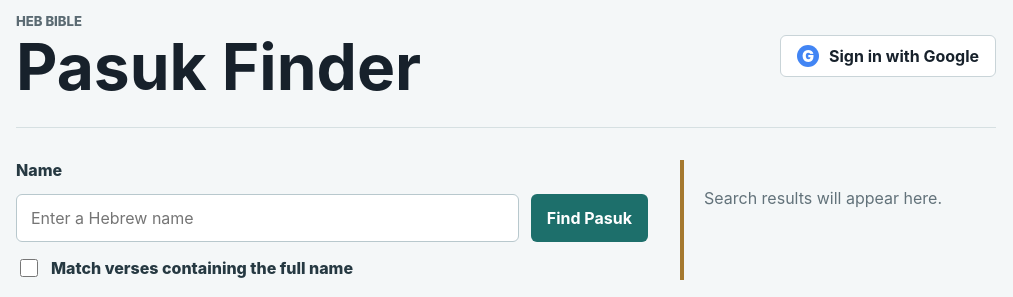
Test: App › shows a search error when the backend request fails
The image size is (1013, 297).
Type "דוד" into the field with id "name" at (267, 218), box [16,194,519,242]
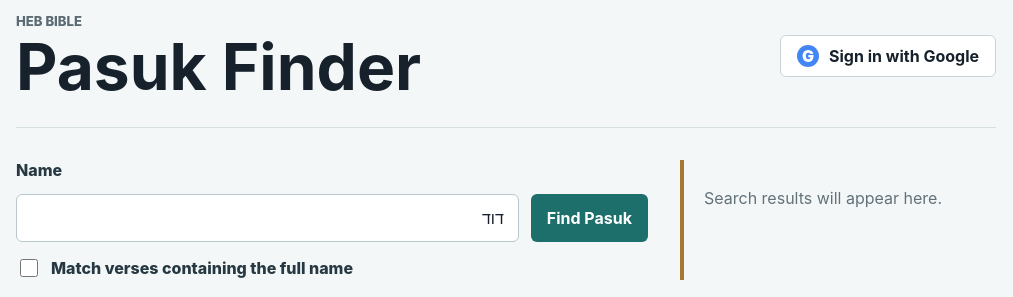
Submit the form, box [16,160,648,280]
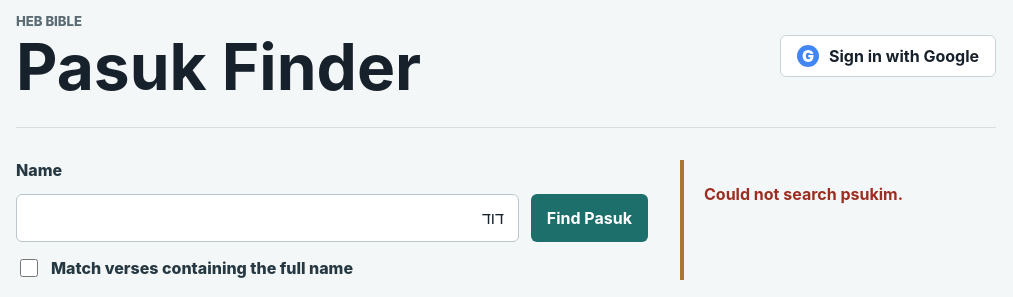
Check: the text "Could not search psukim." is shown, box [704,184,903,204]
